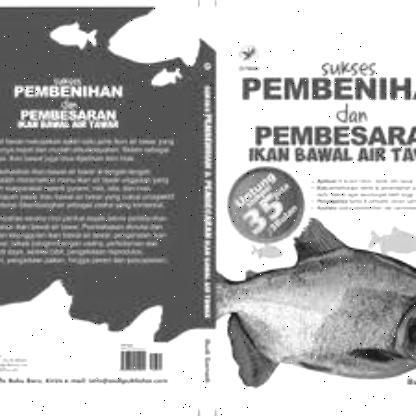ikan-pacu: (212, 216, 414, 382)
